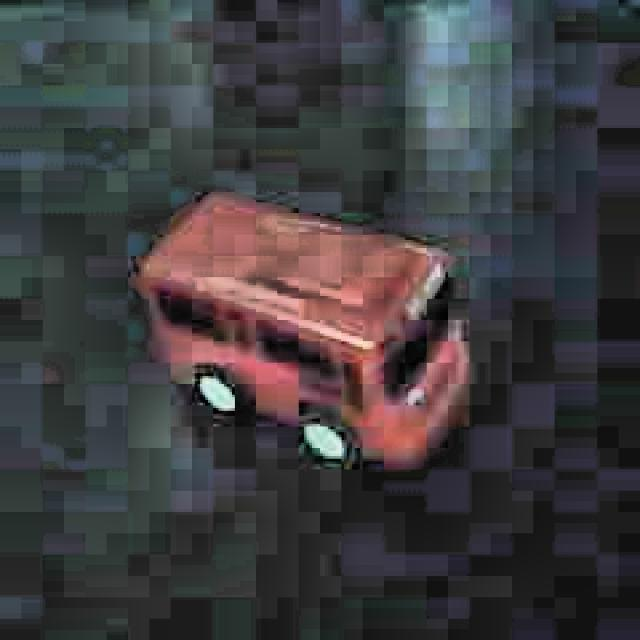bus: (132, 186, 476, 489)
